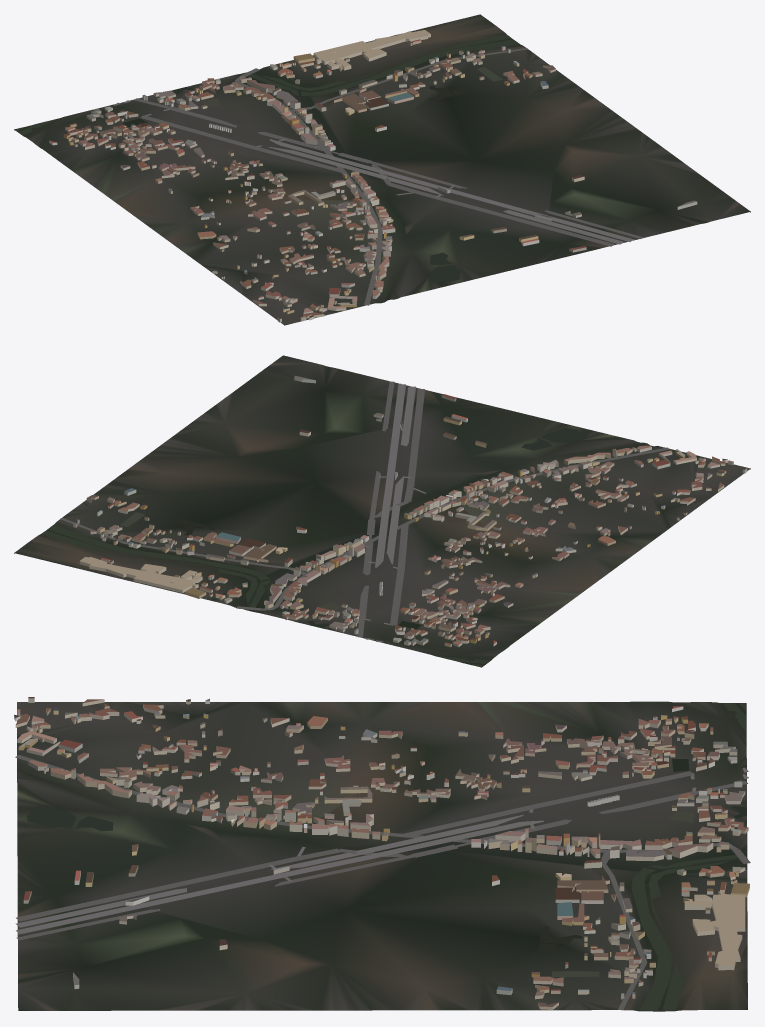
3 views of the same model, one above another, from view 1: azimuth 30°, elevation 25°; view 2: azimuth 150°, elevation 25°; view 3: azimuth 270°, elevation 25° (orthographic). The views are drawn at different scales.
Parts seen in each view (by area): view 1: ground, buildings, roads, water; view 2: ground, buildings, roads, water; view 3: ground, buildings, roads, water.
Boxes of the visible parts, bbox=[...] form: ground: bbox=[14, 14, 750, 325]; buildings: bbox=[49, 30, 697, 322]; roads: bbox=[114, 48, 643, 305]; water: bbox=[15, 34, 519, 282]; ground: bbox=[14, 355, 750, 667]; buildings: bbox=[73, 375, 747, 647]; roads: bbox=[60, 381, 669, 642]; water: bbox=[41, 427, 587, 666]; ground: bbox=[17, 701, 747, 1011]; buildings: bbox=[14, 697, 749, 1009]; roads: bbox=[15, 755, 750, 1010]; water: bbox=[27, 703, 747, 1010].
Bounding box in the file's own units: 1403 × 30.76 × 1416.
